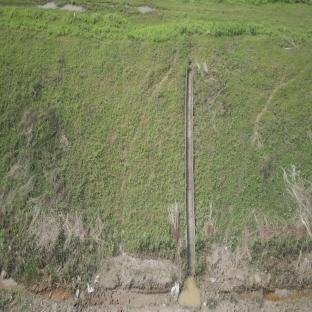slope_drain: (184, 63, 197, 277)
toe_drain: (0, 273, 311, 309)
